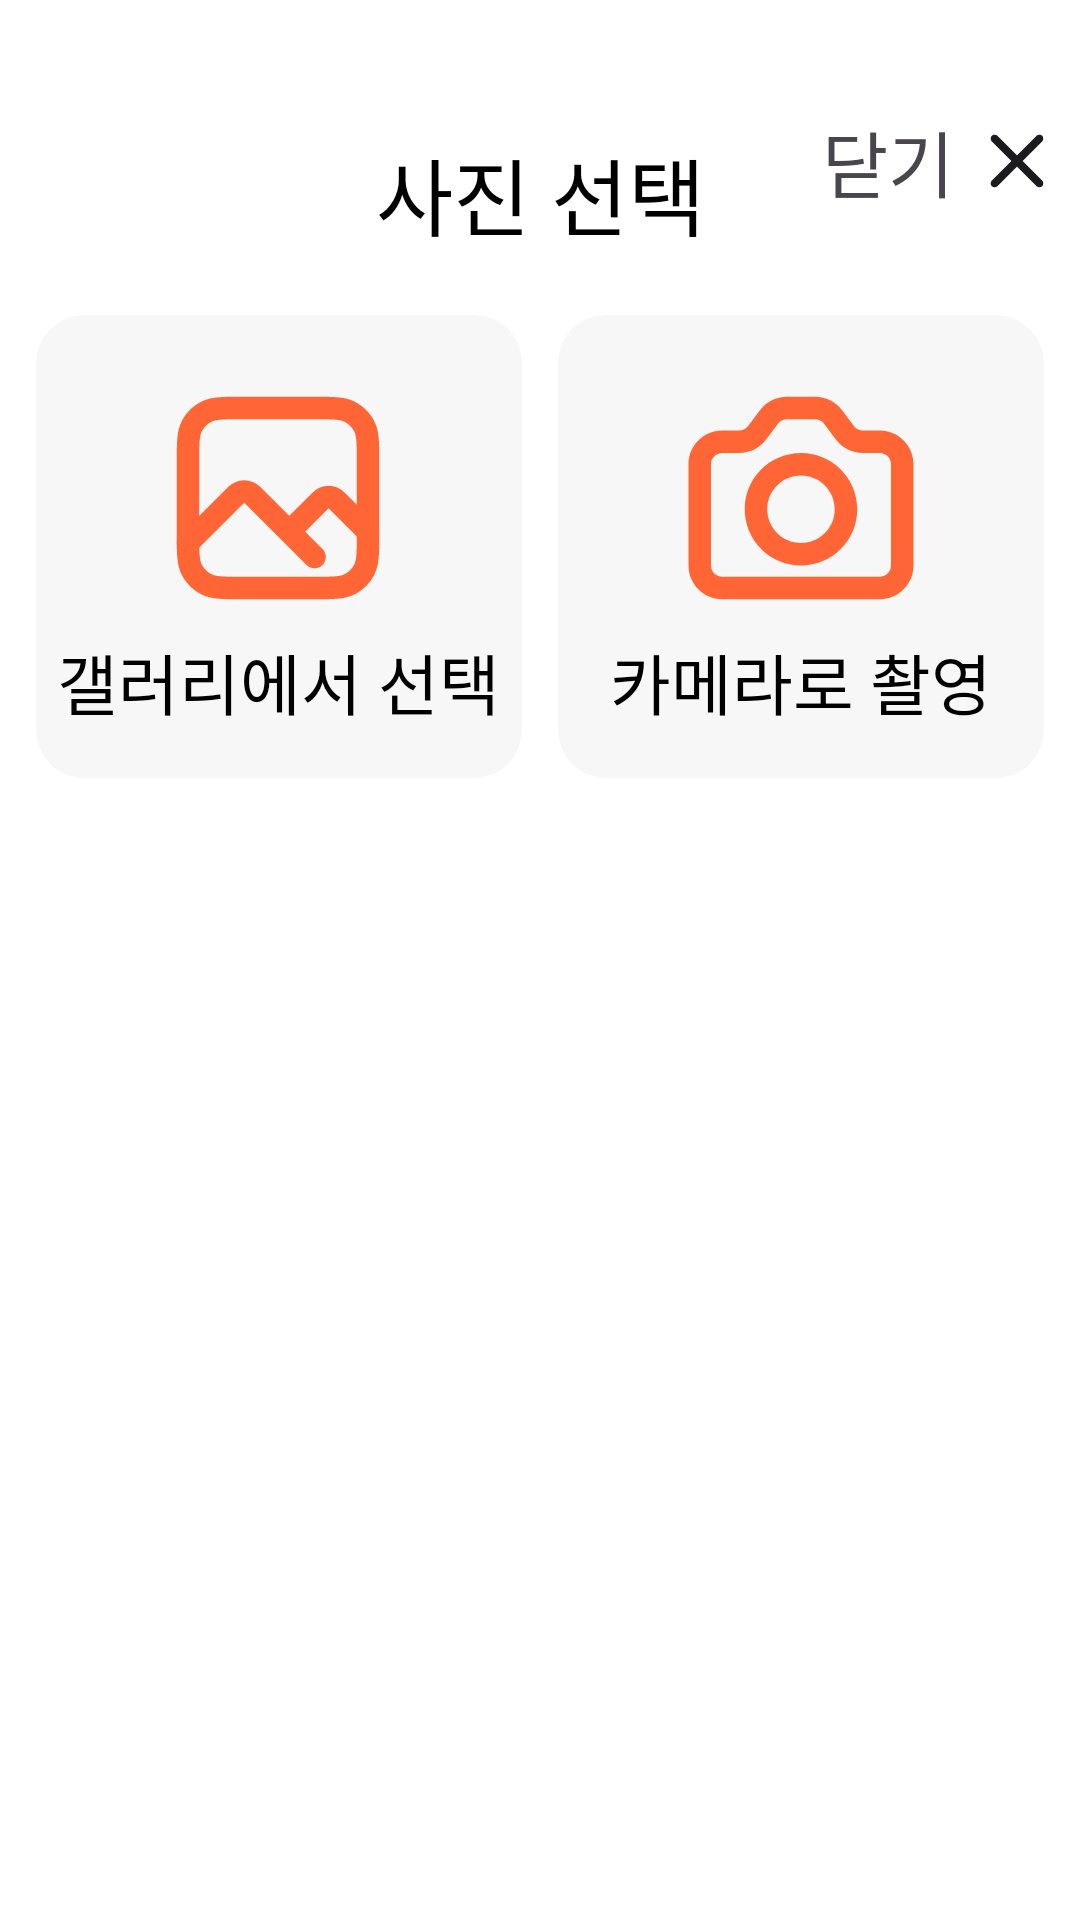

Where to tap for icons on this 1080×1920 app screen, as [x,y]:
close: [1017,161]
photo: [278,498]
